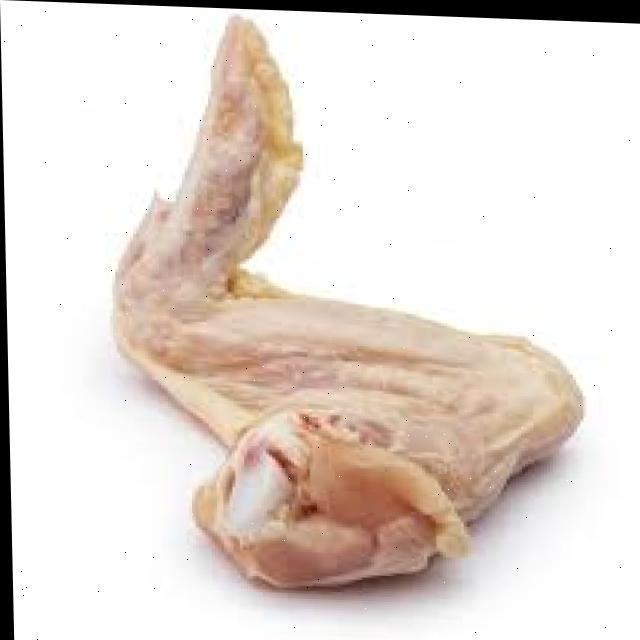wing: (110, 11, 573, 580)
